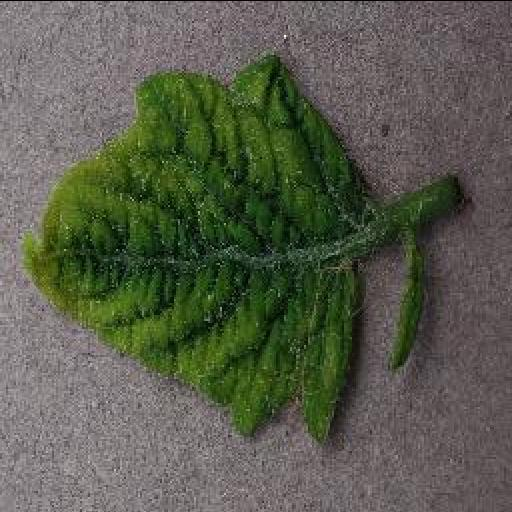disease_tomato: (16, 50, 382, 444)
